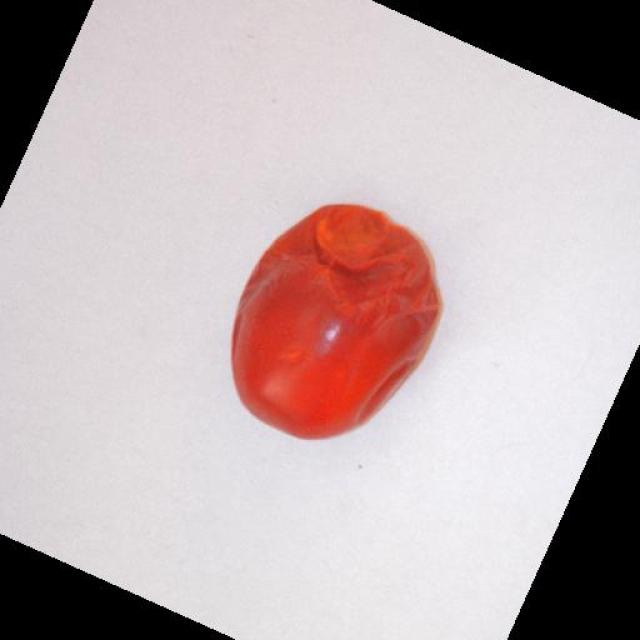Stale_tomato: (217, 177, 451, 455)
